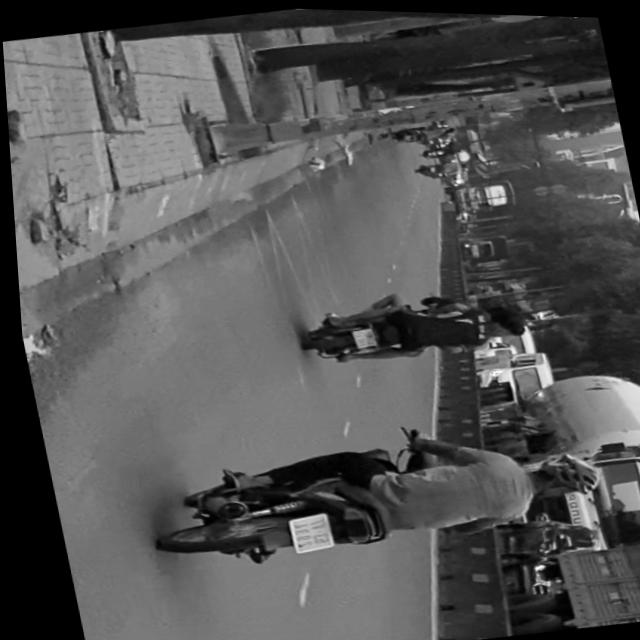helmet: (520, 448, 600, 502)
licenseplate: (133, 402, 614, 589), (289, 276, 538, 377)
motorcyclist: (519, 448, 600, 502), (482, 303, 528, 337)
nohelmet: (282, 513, 328, 553), (349, 326, 374, 348)
